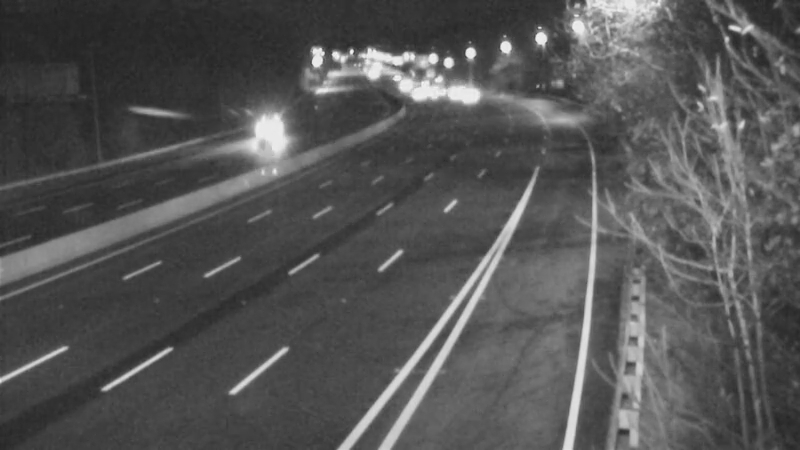vehicle: (441, 70, 491, 120), (422, 68, 472, 118), (395, 69, 445, 119), (244, 106, 294, 156)
